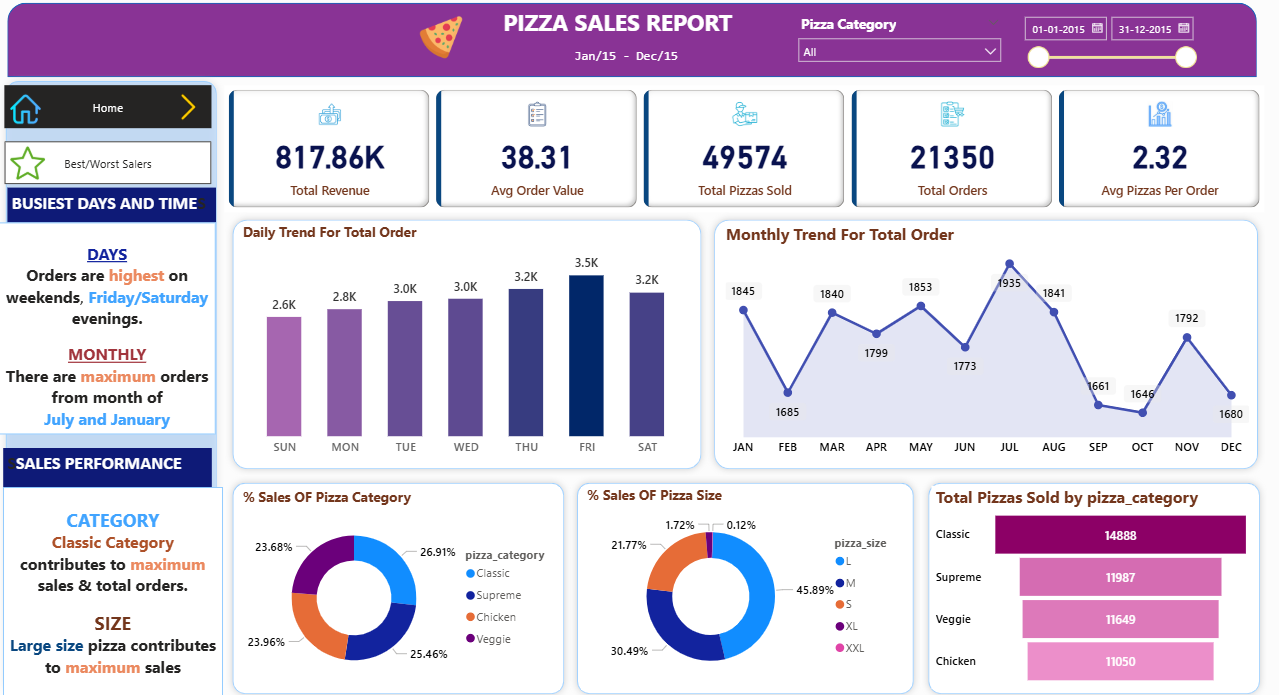

What the dashboard file says about the page in this screenshot:
{"tool":"powerbi","page":{"name":"Home","canvas":[1500,820],"ordinal":0},"visuals":[{"type":"shape","box":[9.3,3.7,1463,87],"z":0},{"type":"textbox","box":[548.1,3.7,353.7,83.3],"z":1000},{"type":"textbox","box":[668.8,50,143.8,37.5],"z":2000},{"type":"image","box":[487,0,61.1,87],"z":3000},{"type":"shape","box":[0,87,263,733.3],"z":4000},{"type":"cardVisual","fields":{"Data":["pizza_sales.Total Revenue","pizza_sales.Avg Order Value","pizza_sales.Total Pizzas Sold","pizza_sales.Total Orders","pizza_sales.Avg Pizzas Per Order"]},"box":[264.3,100,1217.9,148.2],"z":5000},{"type":"shape","box":[264.9,248.6,564.9,308.1],"z":6000},{"type":"columnChart","title":"Daily Trend For Total Order","fields":{"Category":["pizza_sales.Order Day"],"Y":["pizza_sales.Total Orders"]},"box":[280.4,260.7,533.9,282.1],"z":7000},{"type":"shape","box":[829.7,248.6,652.7,308.1],"z":8000},{"type":"areaChart","title":"Monthly Trend For Total Order","fields":{"Y":["pizza_sales.Total Orders"],"Category":["pizza_sales.Order Month"]},"box":[845.9,260.8,623,282.4],"z":9000},{"type":"shape","box":[265.3,557.1,404.1,263.3],"z":10000},{"type":"shape","box":[669.4,557.1,410.2,263.3],"z":11000},{"type":"shape","box":[1079.6,557.1,404.1,263.3],"z":12000},{"type":"donutChart","title":"% Sales OF Pizza Category","fields":{"Category":["pizza_sales.pizza_category"],"Y":["pizza_sales.Total Revenue"]},"box":[279.7,570.3,379.7,237.8],"z":13000},{"type":"donutChart","title":"% Sales OF Pizza Size","fields":{"Y":["pizza_sales.Total Revenue"],"Category":["pizza_sales.pizza_size"]},"box":[684.1,569.6,379.7,237.7],"z":14000},{"type":"funnel","fields":{"Category":["pizza_sales.pizza_category"],"Y":["pizza_sales.Total Pizzas Sold"]},"box":[1091.3,569.6,378.3,237.7],"z":15000},{"type":"textbox","box":[9.3,220.4,244.4,40.7],"z":16000},{"type":"textbox","box":[0,261.1,253.7,248.1],"z":17000},{"type":"textbox","box":[5.6,524.1,244.4,46.3],"z":18000},{"type":"textbox","box":[5.6,570.4,257.4,250],"z":19000},{"type":"slicer","fields":{"Values":["pizza_sales.pizza_category"]},"box":[925.9,11.1,257.4,87],"z":20000},{"type":"slicer","fields":{"Values":["pizza_sales.order_date"]},"box":[1188.9,9.3,222.2,79.6],"z":21000},{"type":"pageNavigator","box":[6.6,100,242.6,50.8],"z":22000},{"type":"pageNavigator","box":[6.6,165.6,242.6,50.8],"z":23000},{"type":"image","box":[193.4,104.9,55.7,41],"z":24000},{"type":"image","box":[9,105,46,46],"z":25000},{"type":"image","box":[9,166,51,51],"z":26000}]}

Visuals, with their boxes in screenshot pixels (x1, y1, x2, y2), scaled from the page's 1500x820 canvas onto the 1279x695 screenshot:
shape: 8:3:1255:77
textbox: 467:3:769:74
textbox: 570:42:693:74
image: 415:0:467:74
shape: 0:74:224:694
cardVisual - pizza_sales.Total Revenue x pizza_sales.Avg Order Value: 225:85:1264:210
shape: 226:211:708:472
"Daily Trend For Total Order" columnChart: 239:221:694:460
shape: 707:211:1264:472
"Monthly Trend For Total Order" areaChart: 721:221:1252:460
shape: 226:472:571:694
shape: 571:472:921:694
shape: 921:472:1265:694
"% Sales OF Pizza Category" donutChart: 238:483:562:685
"% Sales OF Pizza Size" donutChart: 583:483:907:684
funnel - pizza_sales.pizza_category x pizza_sales.Total Pizzas Sold: 931:483:1253:684
textbox: 8:187:216:221
textbox: 0:221:216:432
textbox: 5:444:213:483
textbox: 5:483:224:694
slicer - pizza_sales.pizza_category: 789:9:1009:83
slicer - pizza_sales.order_date: 1014:8:1203:75
pageNavigator: 6:85:212:128
pageNavigator: 6:140:212:183
image: 165:89:212:124
image: 8:89:47:128
image: 8:141:51:184
